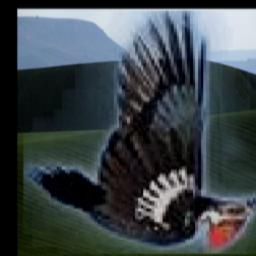Woodpecker: (24, 12, 256, 255)
